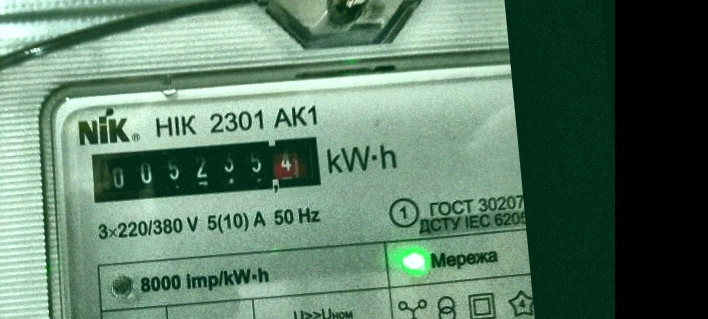0: (108, 163, 127, 190), (137, 158, 153, 184)
2: (192, 152, 208, 178)
3: (219, 147, 236, 174)
4: (276, 146, 294, 173)
5: (246, 146, 264, 174), (164, 155, 181, 182)
screen: (79, 122, 333, 215)
